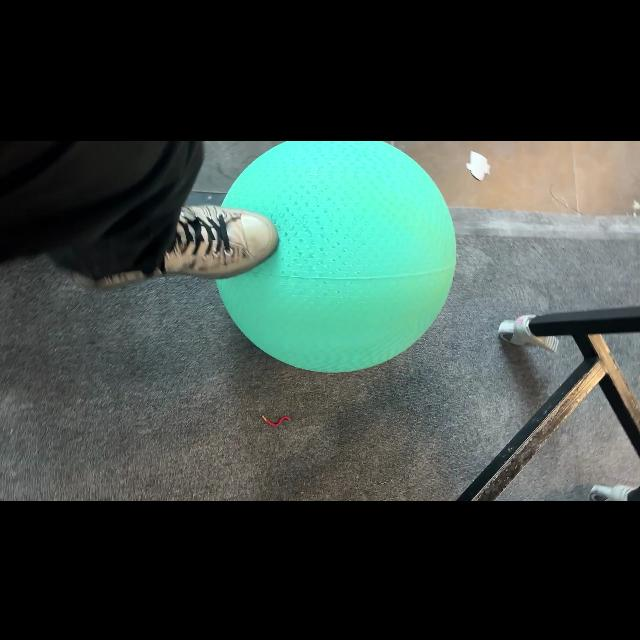ALGAE: (215, 140, 458, 372)
